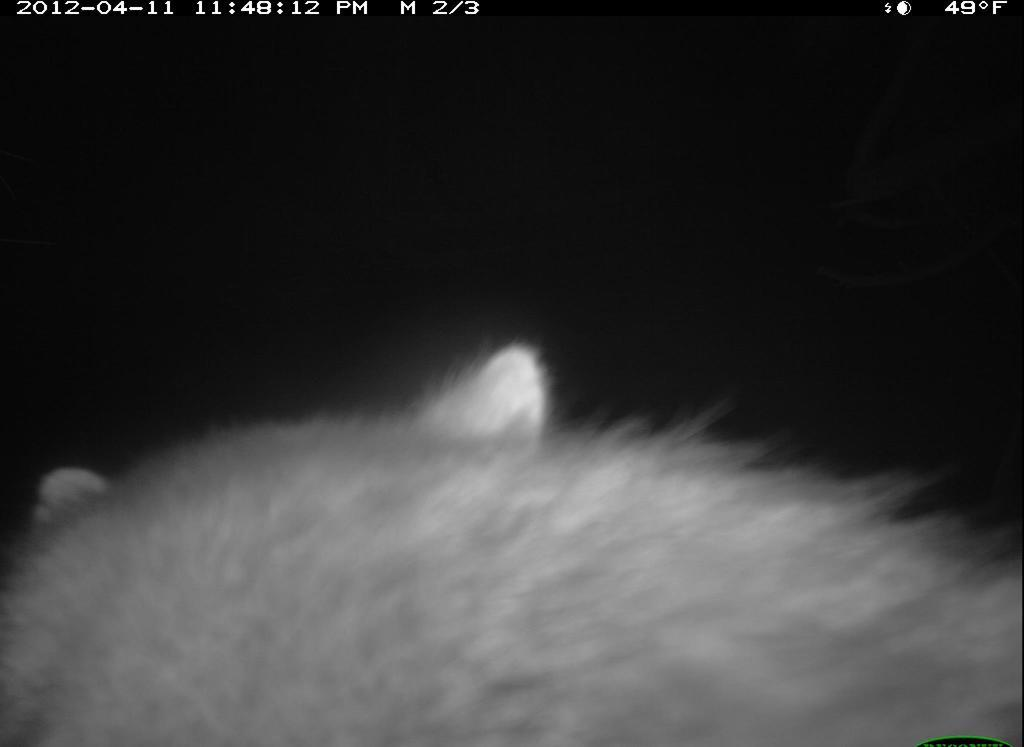raccoon: (2, 322, 1022, 747)
